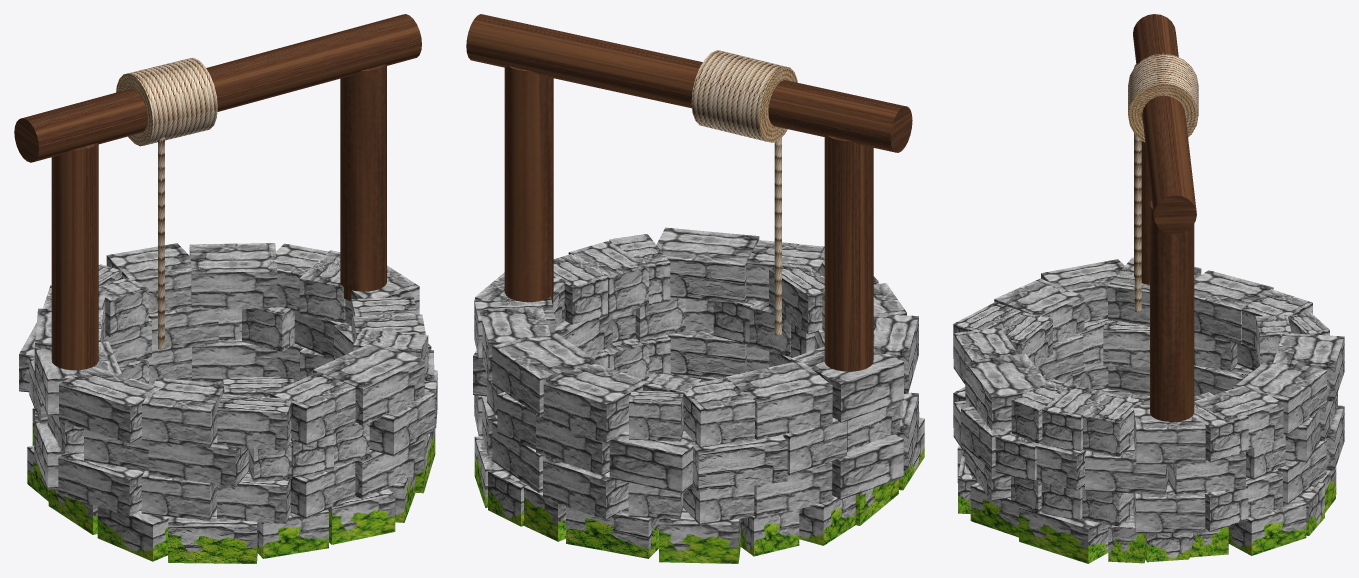
File: Well.fbx
3 renders of one model, left to right at view 1: azimuth 30°, elevation 25°; view 2: azimuth 150°, elevation 25°; view 3: azimuth 270°, elevation 25°, orthographic. The views are drawn at different scales.
Visible parts, largest first — view 1: Rock_Layer_2, Rock_Layer_1, Rock_Layer_0, Pole_3, Rock_Base1, Pole_1, Pole_2, pCylinder1, Rope_Slack; view 2: Rock_Layer_2, Rock_Layer_1, Rock_Layer_0, Pole_3, Rock_Base1, Pole_2, Pole_1, pCylinder1, Rope_Slack; view 3: Rock_Layer_2, Rock_Layer_1, Rock_Layer_0, Rock_Base1, Pole_2, Pole_3, pCylinder1, Rope_Slack, Pole_1.
Boxes of the visible parts, box(x1,y1,x2,y2) form: Rock_Layer_2: box(34, 243, 428, 450); Rock_Layer_1: box(19, 306, 437, 487); Rock_Layer_0: box(34, 339, 428, 523); Pole_3: box(14, 14, 421, 162); Rock_Base1: box(27, 380, 435, 563); Pole_1: box(51, 143, 98, 370); Pole_2: box(340, 64, 386, 301); pCylinder1: box(116, 57, 217, 146); Rope_Slack: box(158, 137, 164, 349); Rock_Layer_2: box(474, 227, 918, 447); Rock_Layer_1: box(473, 297, 902, 493); Rock_Layer_0: box(474, 330, 918, 525); Pole_3: box(466, 14, 912, 152); Rock_Base1: box(474, 374, 924, 563); Pole_2: box(504, 66, 553, 305); Pole_1: box(824, 135, 873, 371); pCylinder1: box(691, 50, 797, 142); Rope_Slack: box(774, 137, 781, 335); Rock_Layer_2: box(953, 257, 1344, 464); Rock_Layer_1: box(961, 318, 1337, 495); Rock_Layer_0: box(953, 360, 1344, 533); Rock_Base1: box(957, 388, 1336, 563); Pole_2: box(1150, 201, 1194, 421); Pole_3: box(1133, 14, 1196, 234); pCylinder1: box(1128, 53, 1198, 142); Rope_Slack: box(1134, 134, 1141, 312); Pole_1: box(1134, 64, 1151, 284).
Bounding box in the file's own units: 4.47 × 4.45 × 4.05.
4 materials, 4 textured.
